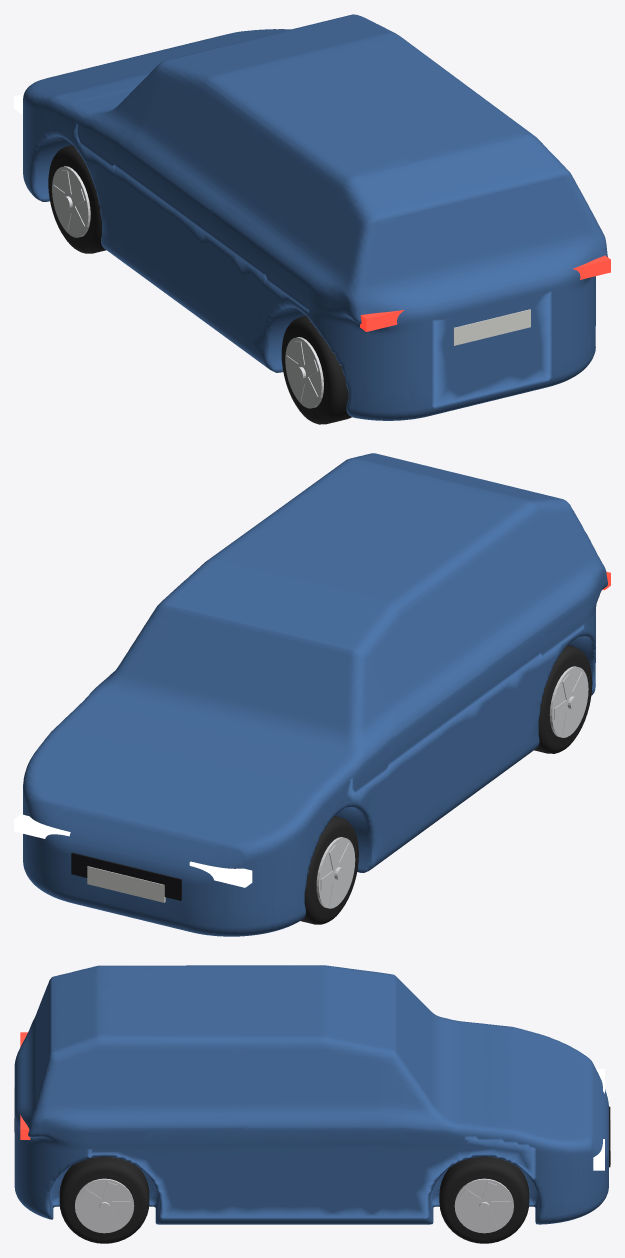
Rendered from hatch_blue.glb.
3 renders of one model, top to bottom at view 1: azimuth 30°, elevation 25°; view 2: azimuth 150°, elevation 25°; view 3: azimuth 270°, elevation 25°, orthographic. The views are drawn at different scales.
Visible parts, largest first — view 1: Body, wheel_rl, wheel_fl, Details; view 2: Body, Details, wheel_fl, wheel_rl; view 3: Body, wheel_rr, wheel_fr, Details.
Boxes of the visible parts, bbox=[...] form: Body: bbox=[23, 14, 607, 420]; wheel_rl: bbox=[281, 315, 351, 424]; wheel_fl: bbox=[48, 145, 106, 253]; Details: bbox=[14, 94, 610, 345]; Body: bbox=[23, 453, 607, 936]; Details: bbox=[14, 571, 610, 902]; wheel_fl: bbox=[300, 816, 358, 924]; wheel_rl: bbox=[534, 645, 592, 753]; Body: bbox=[14, 965, 608, 1224]; wheel_rr: bbox=[59, 1156, 149, 1243]; wheel_fr: bbox=[439, 1156, 529, 1243]; Details: bbox=[14, 1032, 610, 1170].
Bounding box in the file's own units: 1.78 × 1.47 × 4.12.
